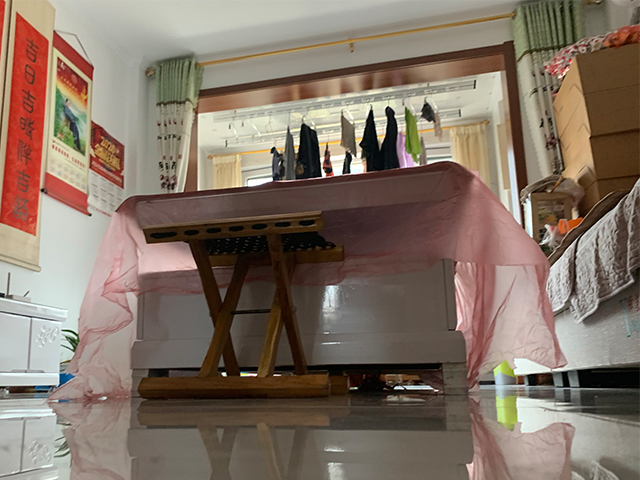cabinet: (1, 297, 69, 396)
sofa: (546, 167, 640, 386)
stool: (136, 209, 352, 399)
table: (48, 158, 563, 402)
